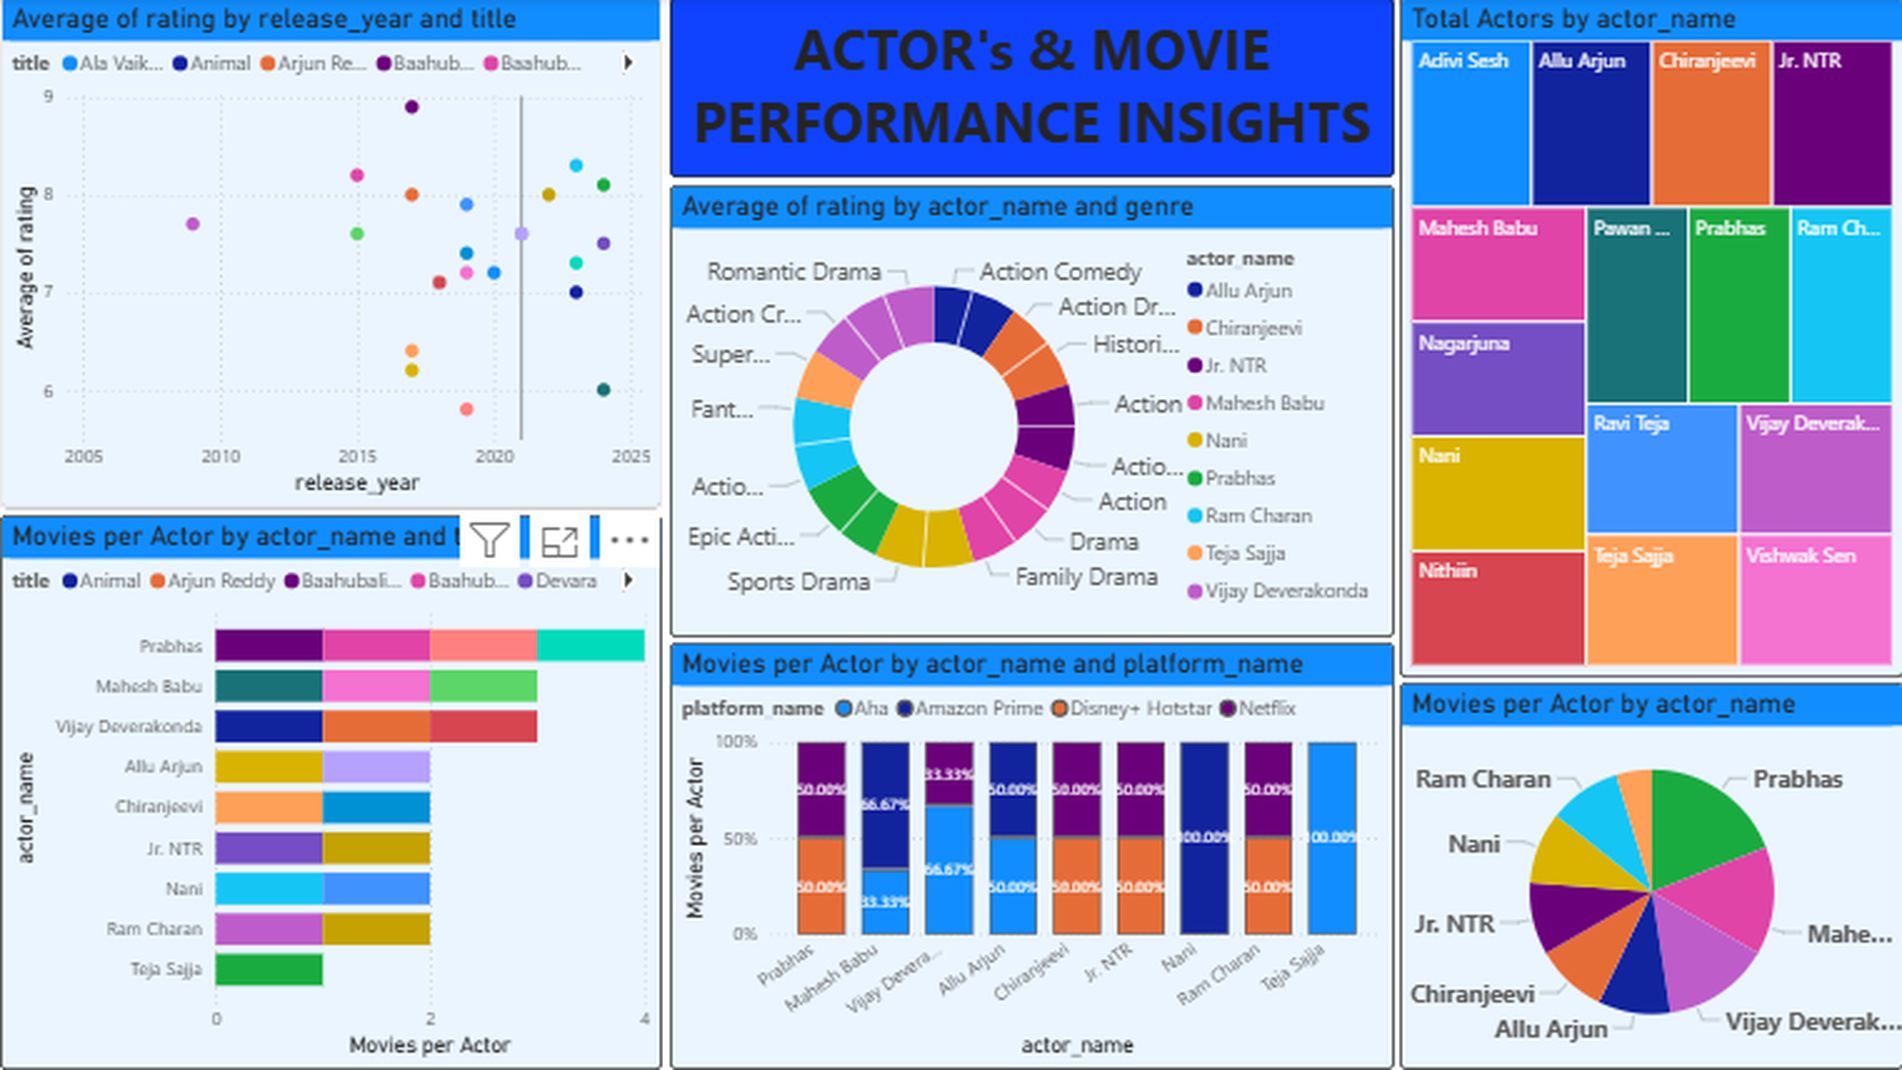

The page's visual inventory and layout, read from the dashboard file:
{"tool":"powerbi","page":{"name":"Page 2","canvas":[1280,720],"ordinal":1},"visuals":[{"type":"barChart","fields":{"Y":["movies actors.Movies per Actor"],"Category":["movies actors.actor_name"],"Series":["movies movies.title"]},"box":[0,347.7,445.1,372.9],"z":0},{"type":"lineChart","fields":{"Y":["movies movies.rating"],"Category":["movies movies.release_year"],"Series":["movies movies.title"]},"box":[0,0,445.1,342.7],"z":1000},{"type":"donutChart","fields":{"Y":["movies movies.rating"],"Category":["movies actors.actor_name"],"Series":["movies movies.genre"]},"box":[450.2,126,487.1,304],"z":2000},{"type":"pieChart","fields":{"Category":["movies actors.actor_name"],"Y":["movies actors.Movies per Actor"]},"box":[940.7,460.3,339.3,260.4],"z":4000},{"type":"hundredPercentStackedColumnChart","fields":{"Category":["movies actors.actor_name"],"Y":["movies actors.Movies per Actor"],"Series":["movies ott_platforms.platform_name"]},"box":[450.2,433.4,487.1,287.2],"z":5000},{"type":"treemap","fields":{"Values":["movies actors.Total Actors"],"Details":["movies actors.actor_name"]},"box":[940.7,0,339.3,456.9],"z":6000},{"type":"textbox","box":[450.2,0,487.1,120.9],"z":6001}]}

Visuals, with their boxes in screenshot pixels (x1, y1, x2, y2), scaled from the page's 1280x720 canvas onto the 1902x1070 screenshot:
barChart - movies actors.Movies per Actor x movies actors.actor_name: bbox=(0, 517, 661, 1069)
lineChart - movies movies.rating x movies movies.release_year: bbox=(0, 0, 661, 509)
donutChart - movies movies.rating x movies actors.actor_name: bbox=(669, 187, 1393, 639)
pieChart - movies actors.actor_name x movies actors.Movies per Actor: bbox=(1398, 684, 1901, 1069)
hundredPercentStackedColumnChart - movies actors.actor_name x movies actors.Movies per Actor: bbox=(669, 644, 1393, 1069)
treemap - movies actors.Total Actors x movies actors.actor_name: bbox=(1398, 0, 1901, 679)
textbox: bbox=(669, 0, 1393, 180)
